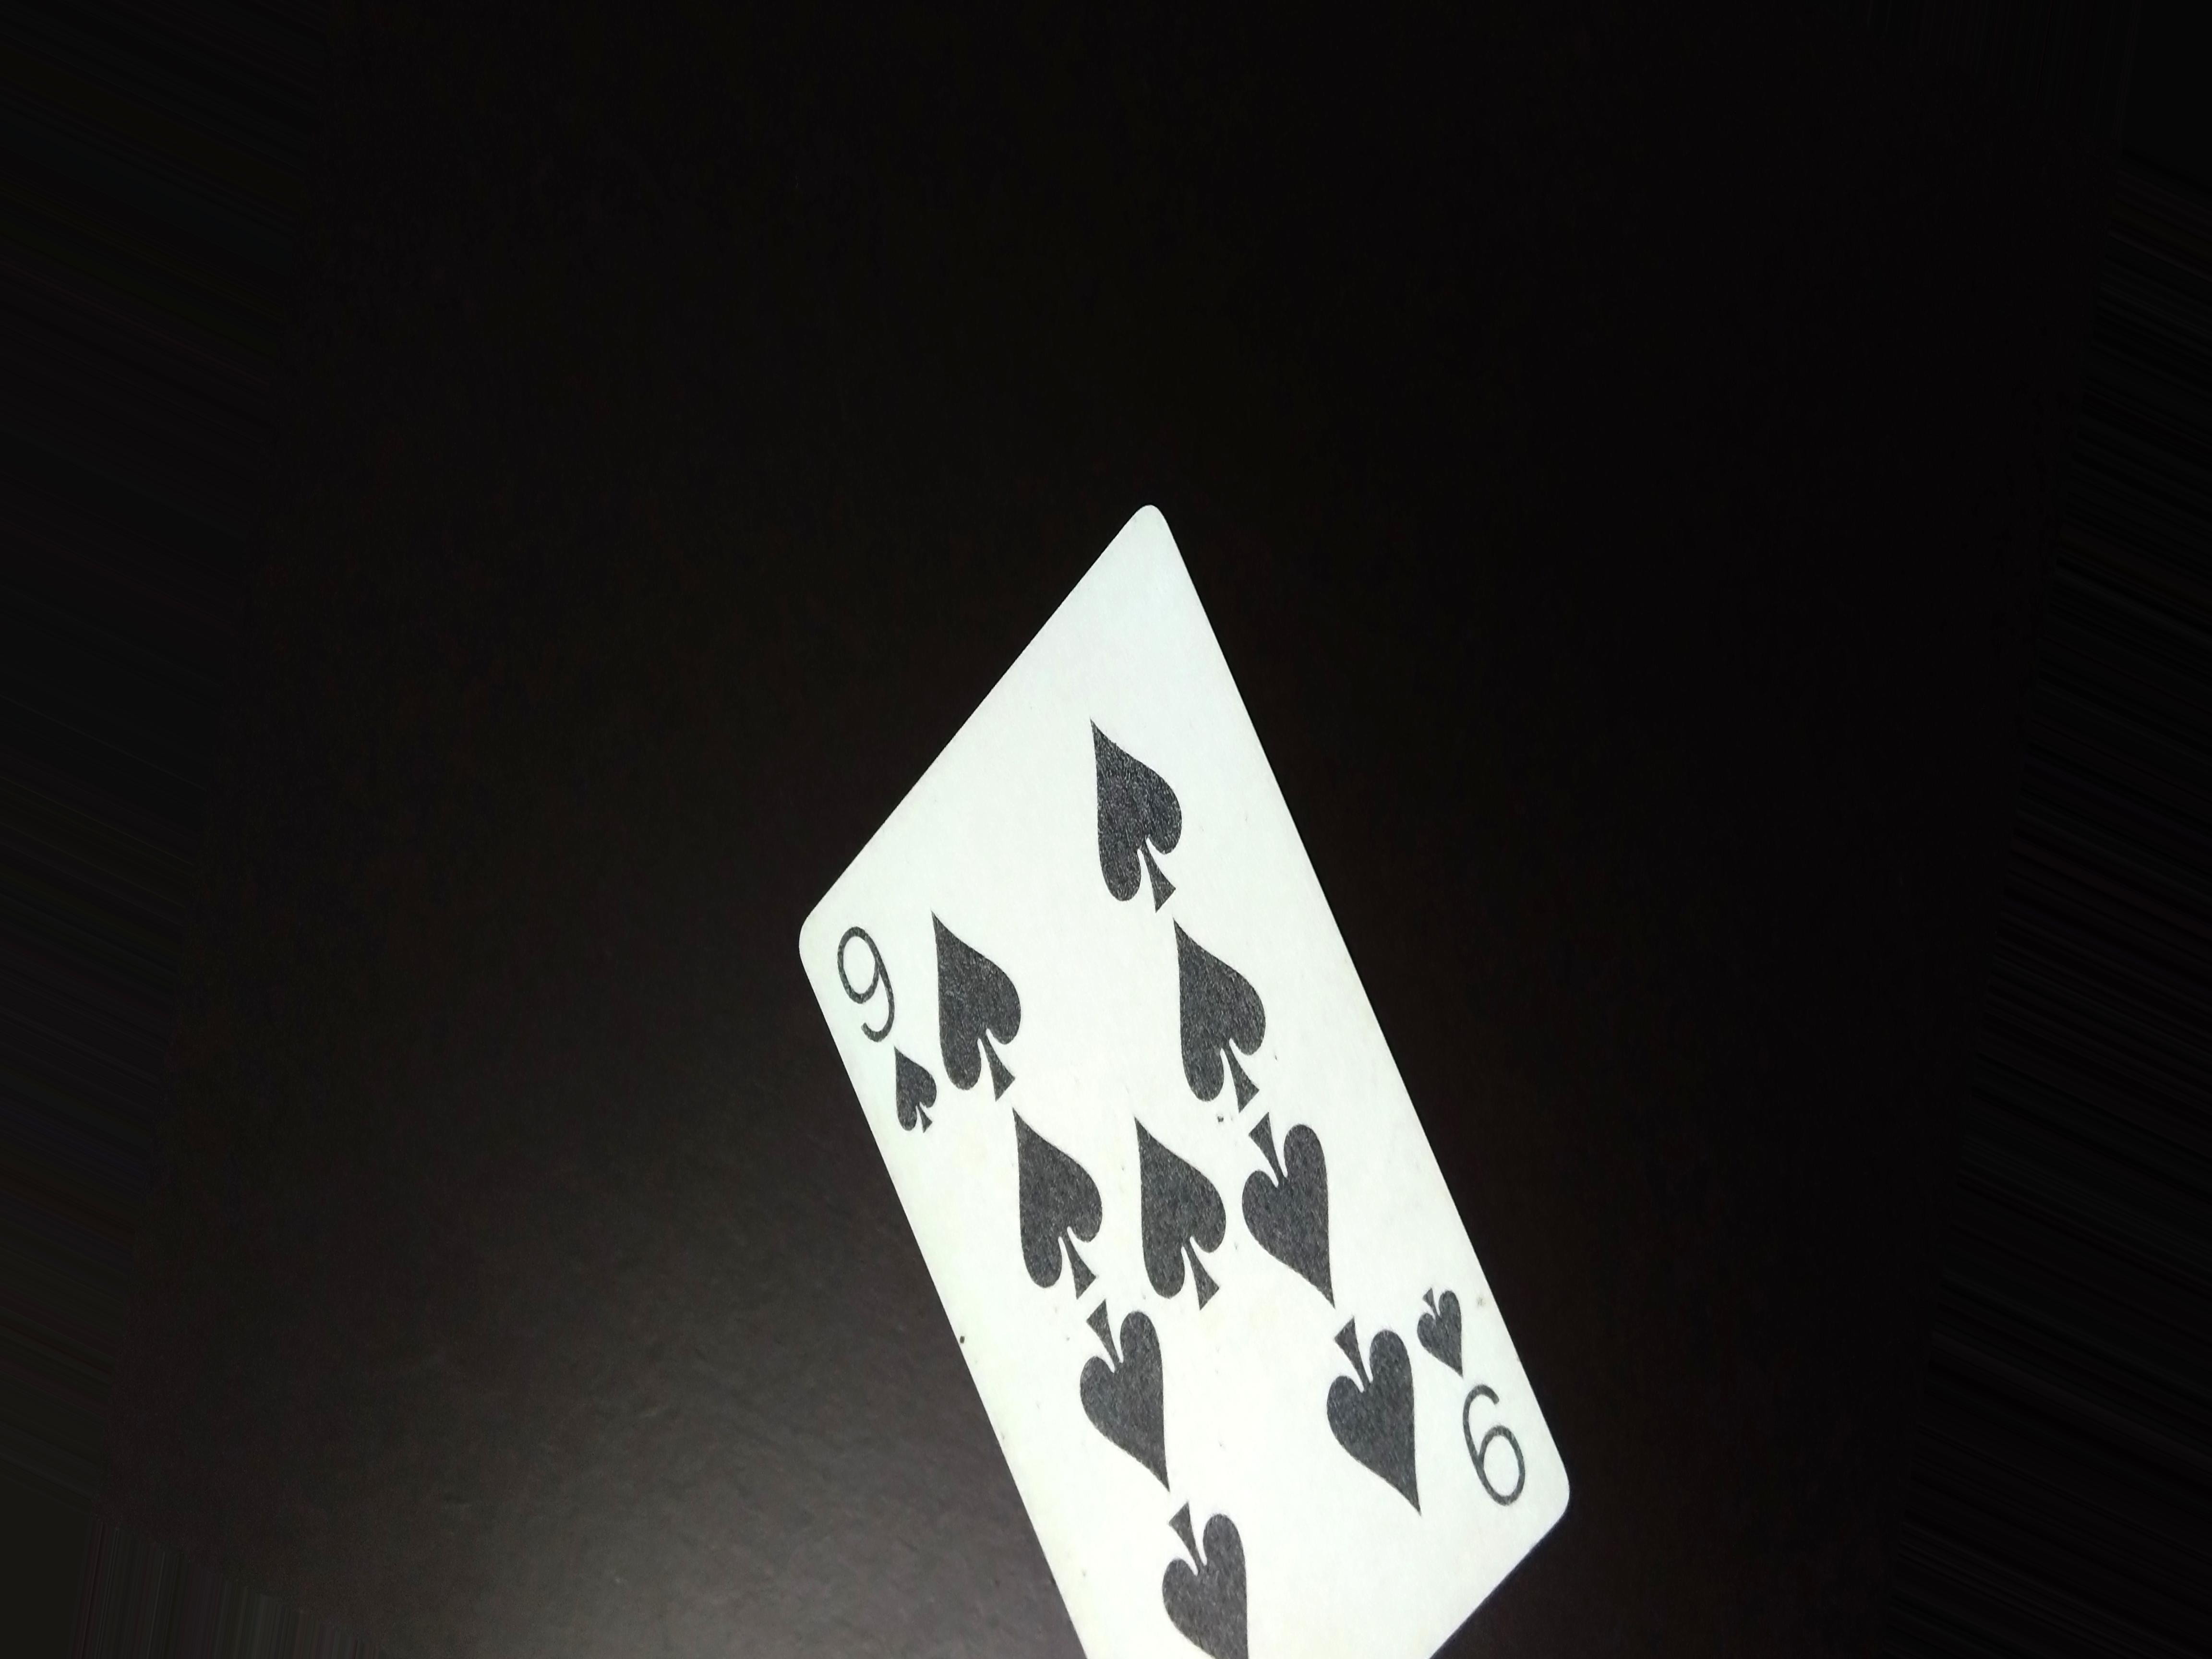9S: (819, 920, 961, 1126)
